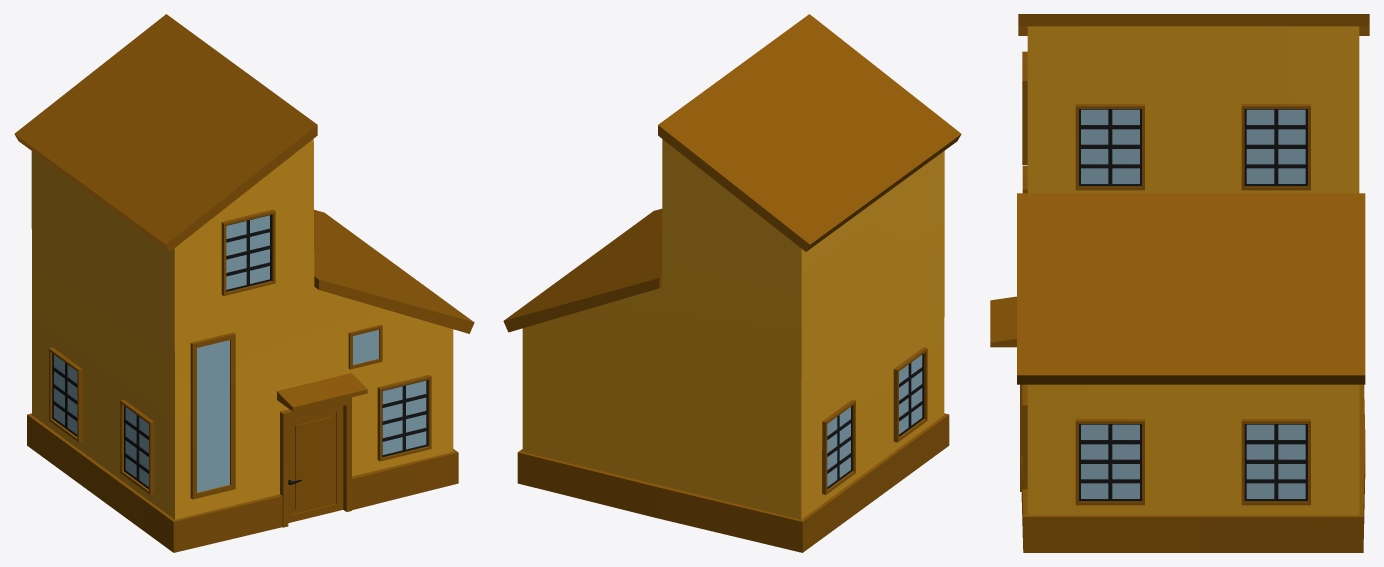
File: Env_ResidentBuilding_02.fbx
The picture shows the model from 3 angles, left to right: view 1: azimuth 30°, elevation 25°; view 2: azimuth 150°, elevation 25°; view 3: azimuth 270°, elevation 25°; orthographic projection. The views are drawn at different scales.
Parts seen in each view (by area): view 1: Env_ResidentBuilding_02; view 2: Env_ResidentBuilding_02; view 3: Env_ResidentBuilding_02.
Boxes of the visible parts, x1,y1,x2,y2 form: Env_ResidentBuilding_02: (14, 14, 474, 552); Env_ResidentBuilding_02: (503, 14, 961, 552); Env_ResidentBuilding_02: (990, 14, 1369, 552).
Bounding box in the file's own units: 648 × 793 × 595.
1 material, 1 textured.
